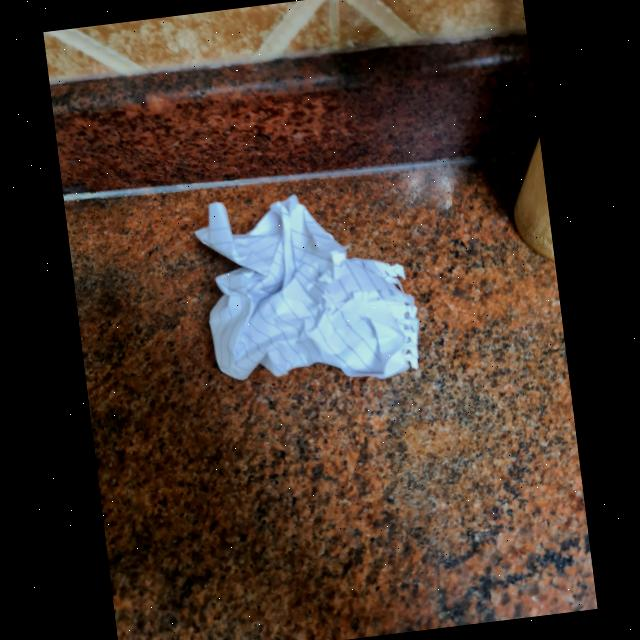trash: (192, 170, 441, 398)
